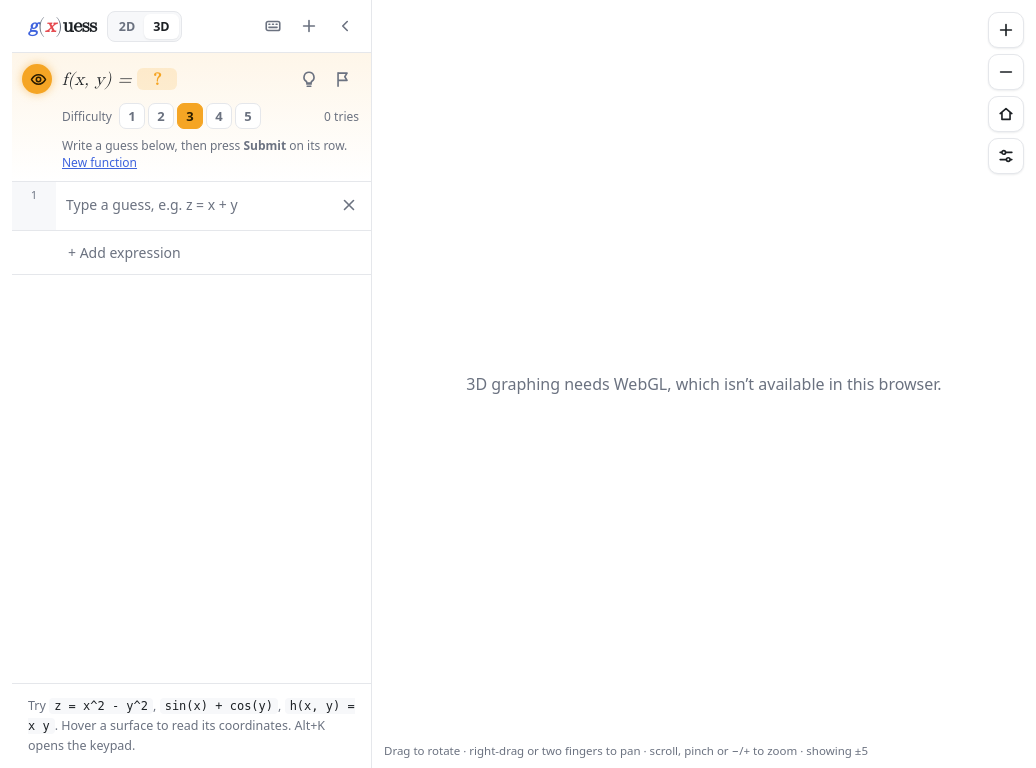
Scenario: 3D mode › toggles the target surface independently
This screenshot has width=1036, height=768.
What coordinates should you click on to do the following:
click the button named "Hide f(x, y) on the graph"
I would click on:
 (37, 79)
Its box is [22,64,52,94].
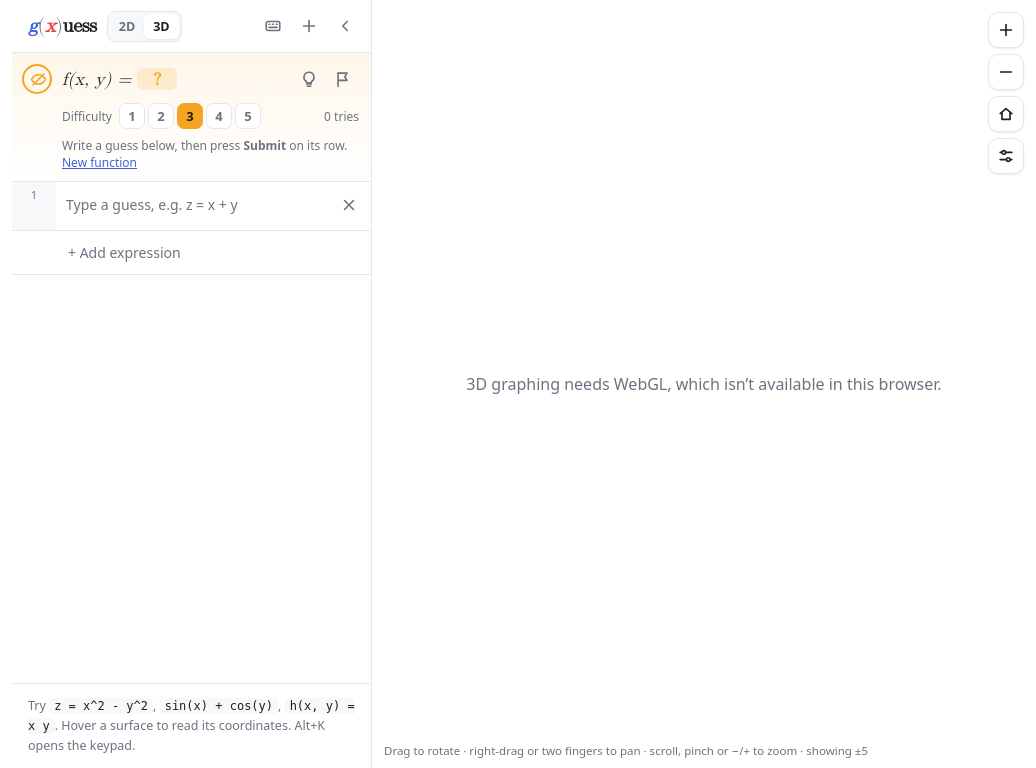
Check: the button named "Show f(x, y) on the graph" is not pressed, box [22,64,52,94]
